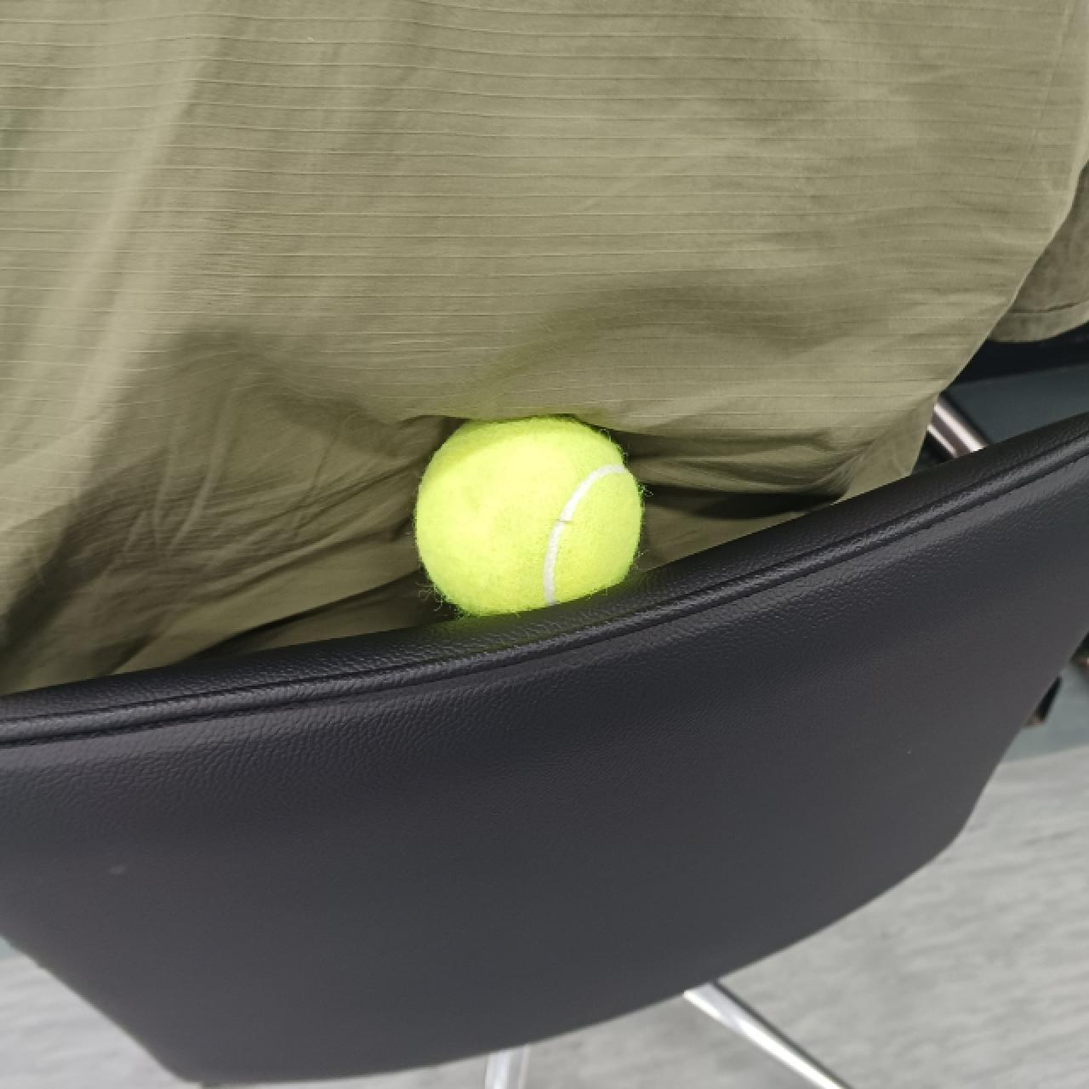tennis-ball: (413, 403, 648, 622)
